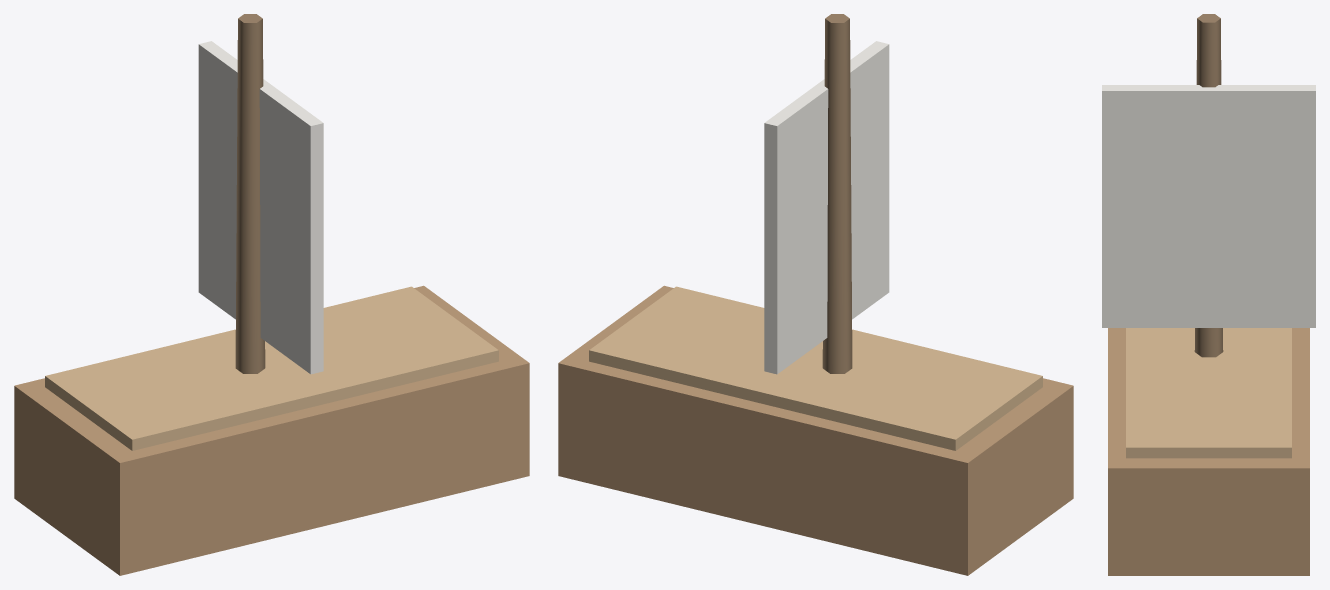
The model's file is boat.glb.
3 renders of one model, left to right at view 1: azimuth 30°, elevation 25°; view 2: azimuth 150°, elevation 25°; view 3: azimuth 270°, elevation 25°, orthographic. The views are drawn at different scales.
Visible parts, largest first — view 1: boat; view 2: boat; view 3: boat.
Boxes of the visible parts, x1,y1,x2,y2 form: boat: (14,14,529,575); boat: (558,14,1073,575); boat: (1102,14,1315,575).
Bounding box in the file's own units: 1.9 × 2.1 × 0.9.
